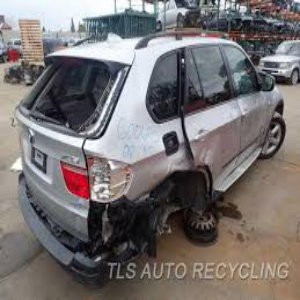bumper: (78, 201, 207, 260)
